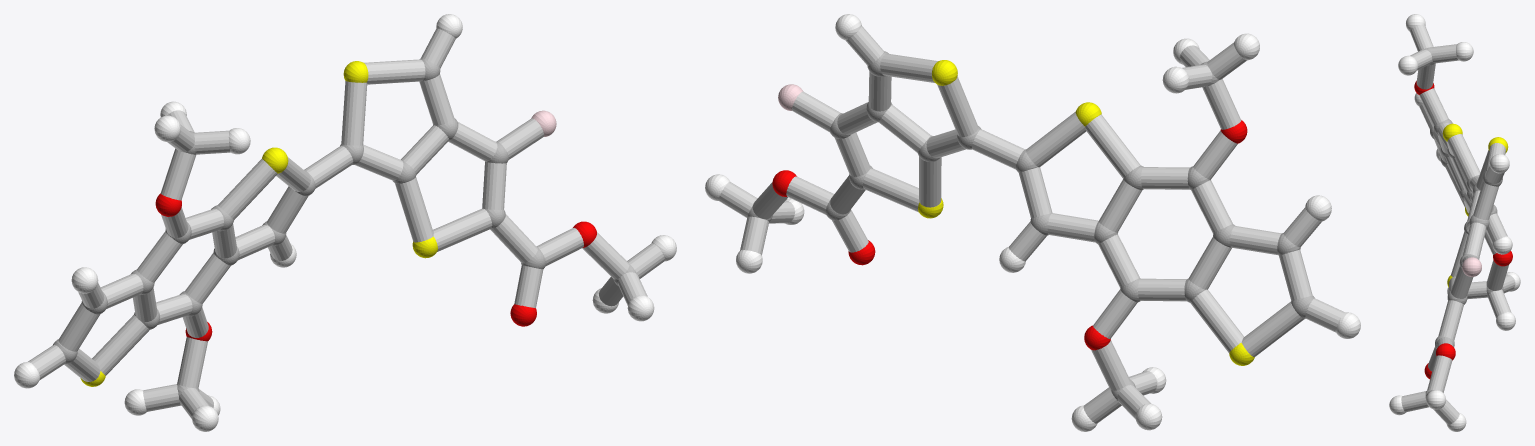
File: Dimethoxy_Benzodithiophene_Phi_5_Theta_140_Methylcarbonyl_3_Fluoro_Thienothiophene.glb
The picture shows the model from 3 angles, left to right: view 1: azimuth 30°, elevation 25°; view 2: azimuth 150°, elevation 25°; view 3: azimuth 270°, elevation 25°; orthographic projection. The views are drawn at different scales.
Parts seen in each view (by area): view 1: grp15205, grp8689, grp1, grp7241, grp13395; view 2: grp15205, grp8689, grp1, grp7241, grp13395; view 3: grp15205, grp8689, grp1, grp13395, grp7241, grp14843.
Part boxes in pixels (x1=…): grp15205: x1=28, y1=28, x2=664, y2=418; grp8689: x1=14, y1=14, x2=676, y2=431; grp1: x1=53, y1=58, x2=637, y2=405; grp7241: x1=80, y1=61, x2=437, y2=386; grp13395: x1=155, y1=193, x2=596, y2=341; grp15205: x1=718, y1=26, x2=1344, y2=423; grp8689: x1=705, y1=14, x2=1360, y2=431; grp1: x1=747, y1=51, x2=1314, y2=400; grp7241: x1=918, y1=60, x2=1254, y2=365; grp13395: x1=772, y1=120, x2=1247, y2=350; grp15205: x1=1401, y1=24, x2=1515, y2=424; grp8689: x1=1389, y1=14, x2=1520, y2=431; grp1: x1=1424, y1=47, x2=1503, y2=397; grp13395: x1=1414, y1=81, x2=1512, y2=379; grp7241: x1=1442, y1=123, x2=1508, y2=287; grp14843: x1=1462, y1=257, x2=1481, y2=276.
Bounding box in the file's own units: 16.97 × 9.25 × 3.95.
